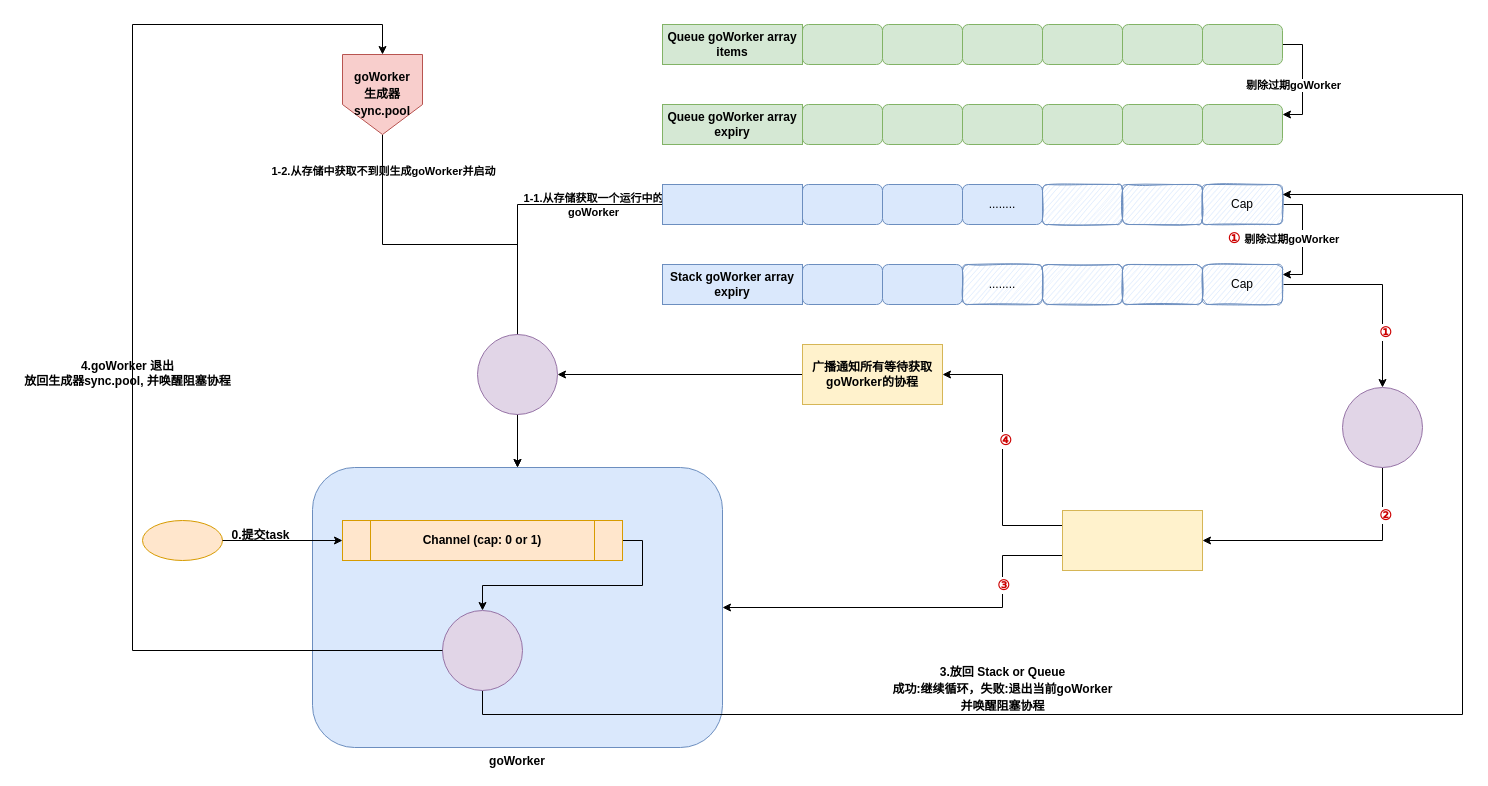
Some shapes in this 1488 by 786 pixel diagram are drawn without their labels. The shapes that lost their labels are listed below. From the top down, each one's centre as x and y in pixels, then its label:
(x=732, y=204): Stack goWorker array items
(x=517, y=374): 1.可能阻塞获取 goWorker
(x=1382, y=427): purge Periodically 循环扫描
(x=182, y=540): task
(x=1132, y=540): 向channel发送 goWorker.task <- nill 让goWorker 退出
(x=482, y=650): 2.循环获取 task执行
